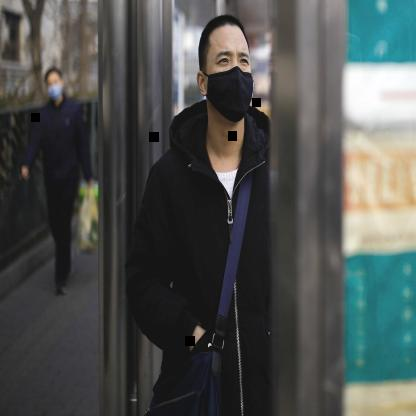mask: (198, 13, 260, 126), (43, 66, 65, 104)
